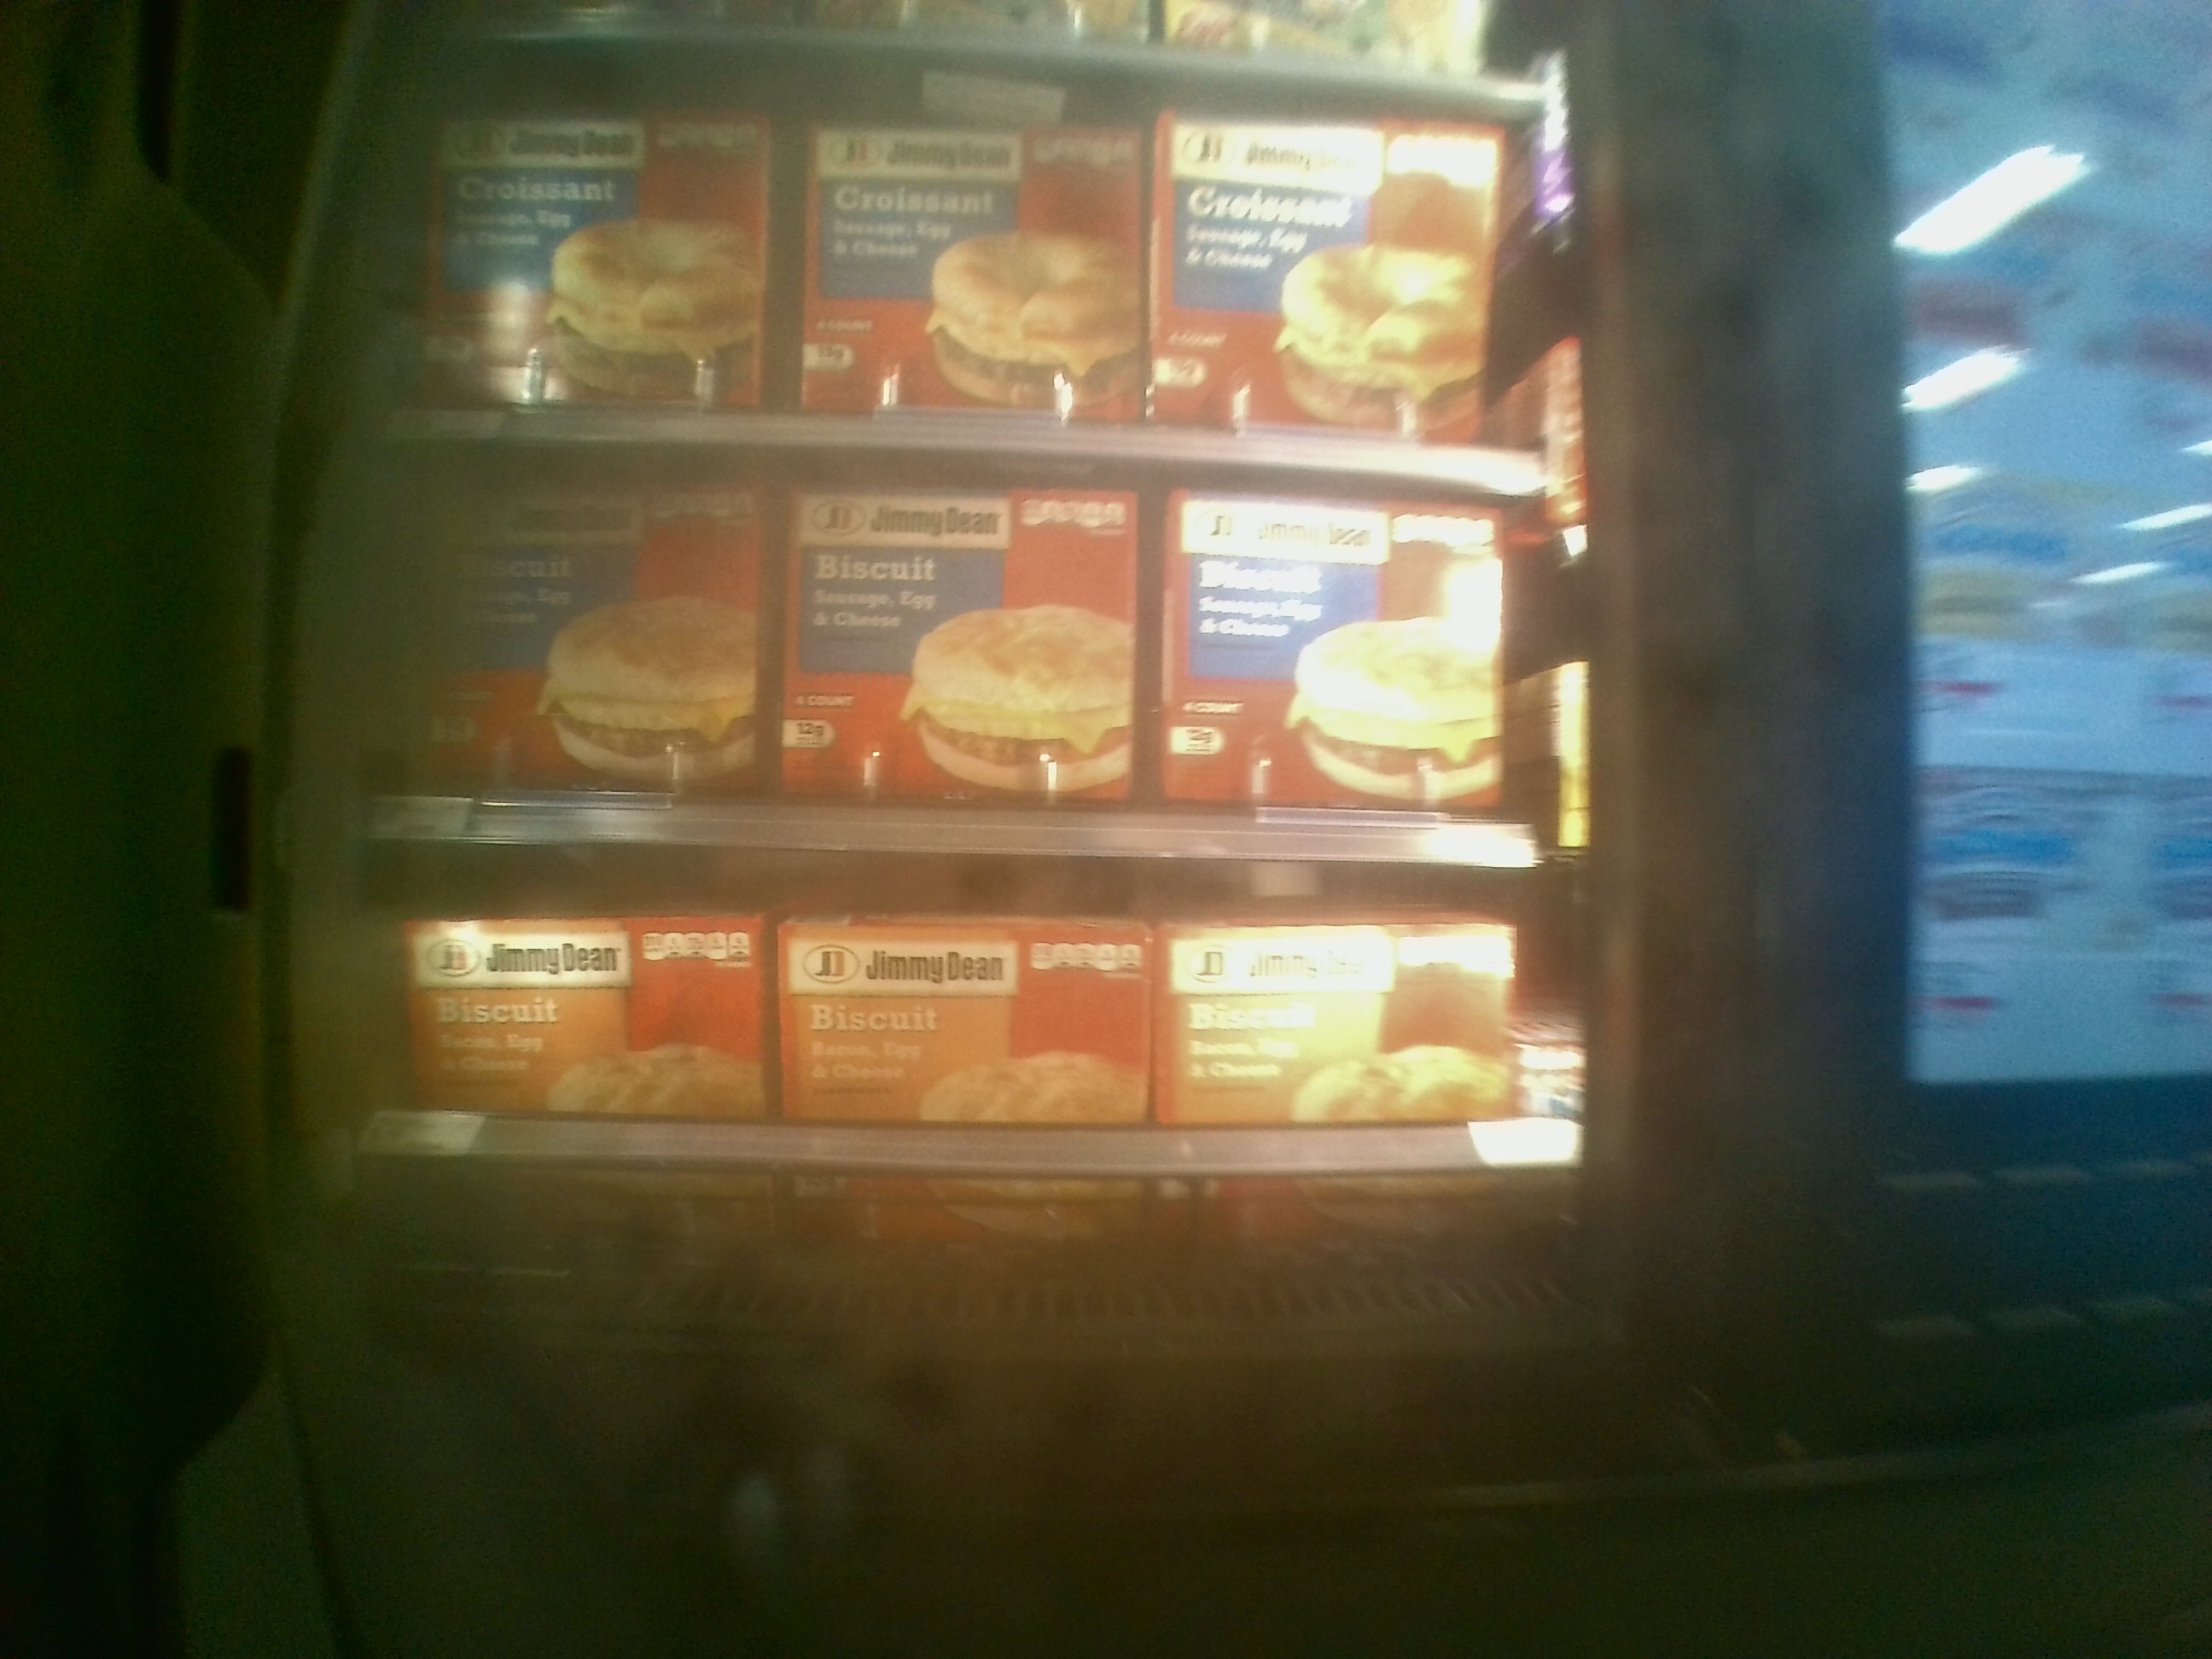shelf: (366, 437, 1571, 863), (359, 847, 1599, 1244)
